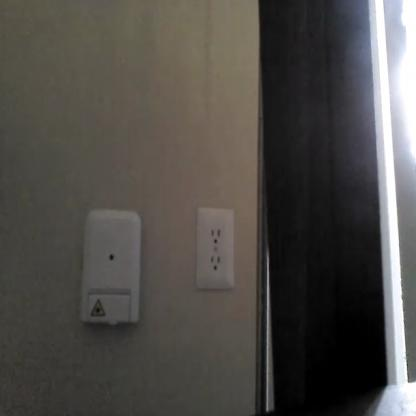OUTLET: (196, 206, 235, 289)
